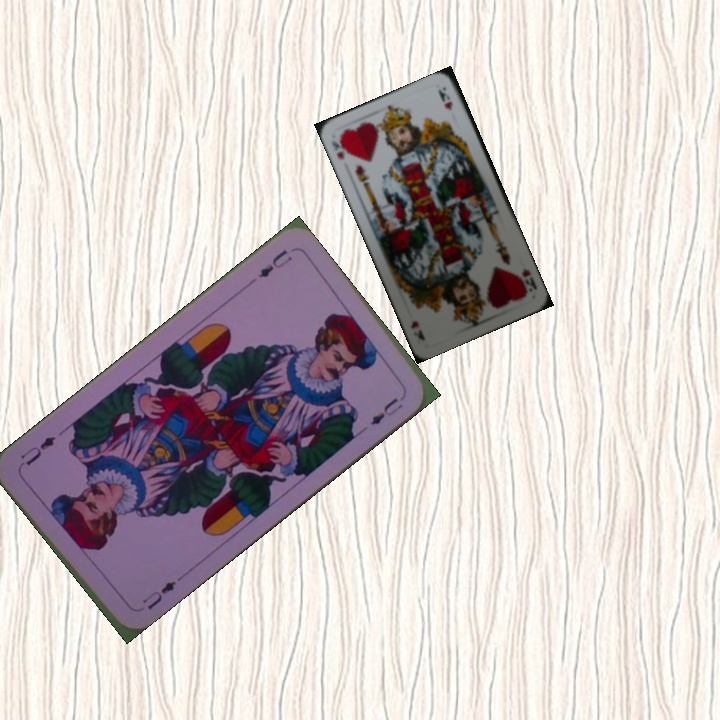EU: (139, 576, 179, 613), (255, 246, 295, 281)
HK: (328, 131, 351, 162), (518, 264, 540, 294)
